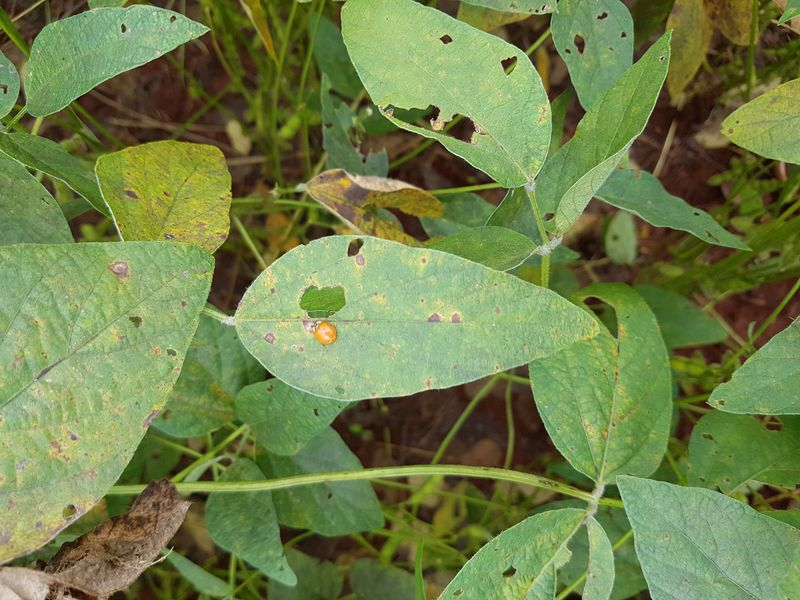Coccinellidae: (301, 314, 342, 352)
